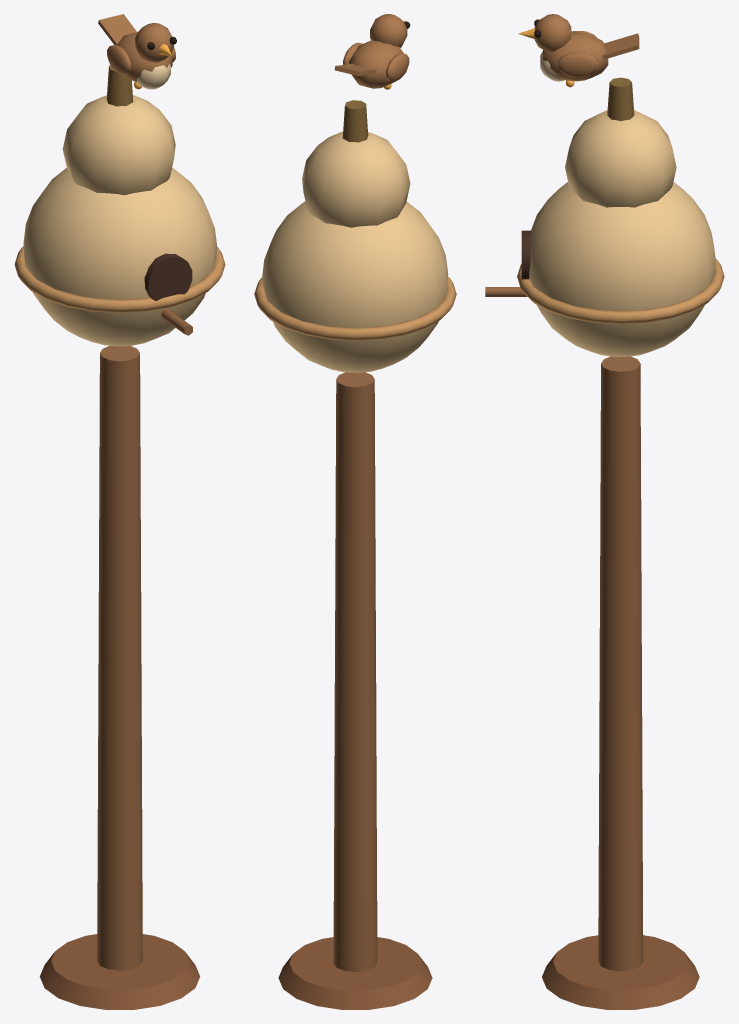
The model's file is birdhouse-gourd.glb.
The picture shows the model from 3 angles, left to right: view 1: azimuth 30°, elevation 25°; view 2: azimuth 150°, elevation 25°; view 3: azimuth 270°, elevation 25°; orthographic projection. The views are drawn at different scales.
Size of the model in its own units: 0.368 by 1.88 by 0.424.
